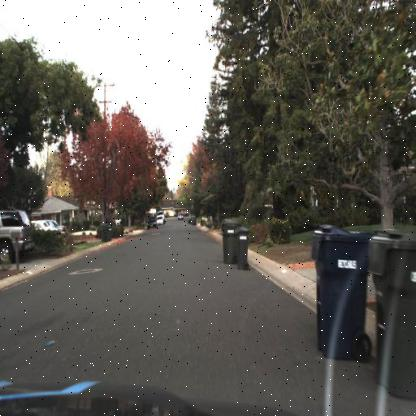car: (0, 208, 31, 265), (30, 216, 54, 242), (47, 218, 68, 234), (56, 219, 68, 237), (155, 210, 166, 226), (146, 218, 157, 230), (188, 212, 196, 224), (178, 212, 184, 220)
